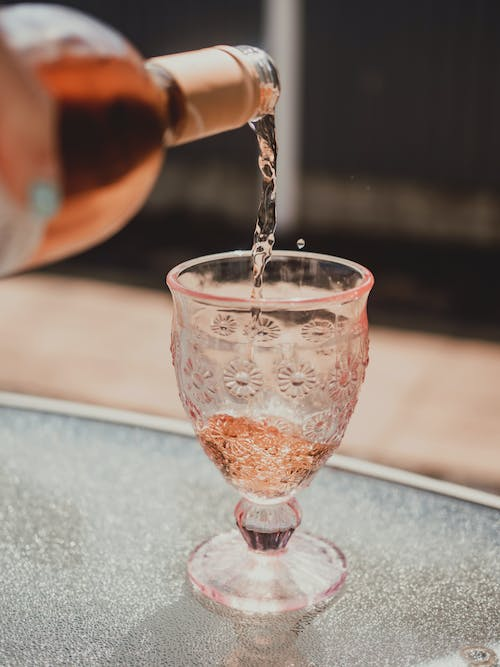alcohol: (0, 0, 282, 280), (163, 249, 376, 614)
